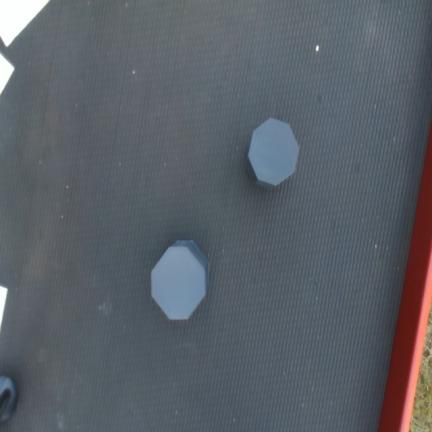Esfera: (0, 375, 17, 423)
Piramide: (0, 0, 50, 48)
Prisma_hexagonal: (151, 240, 209, 320), (246, 117, 300, 188)
